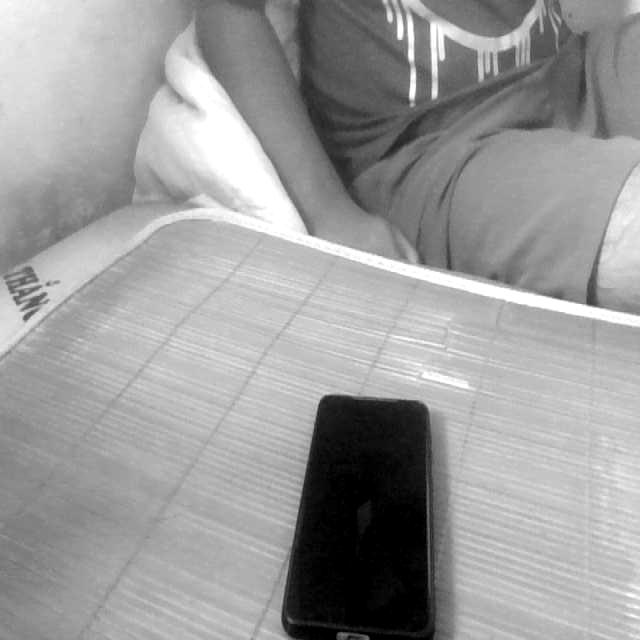phone: (257, 336, 465, 640)
